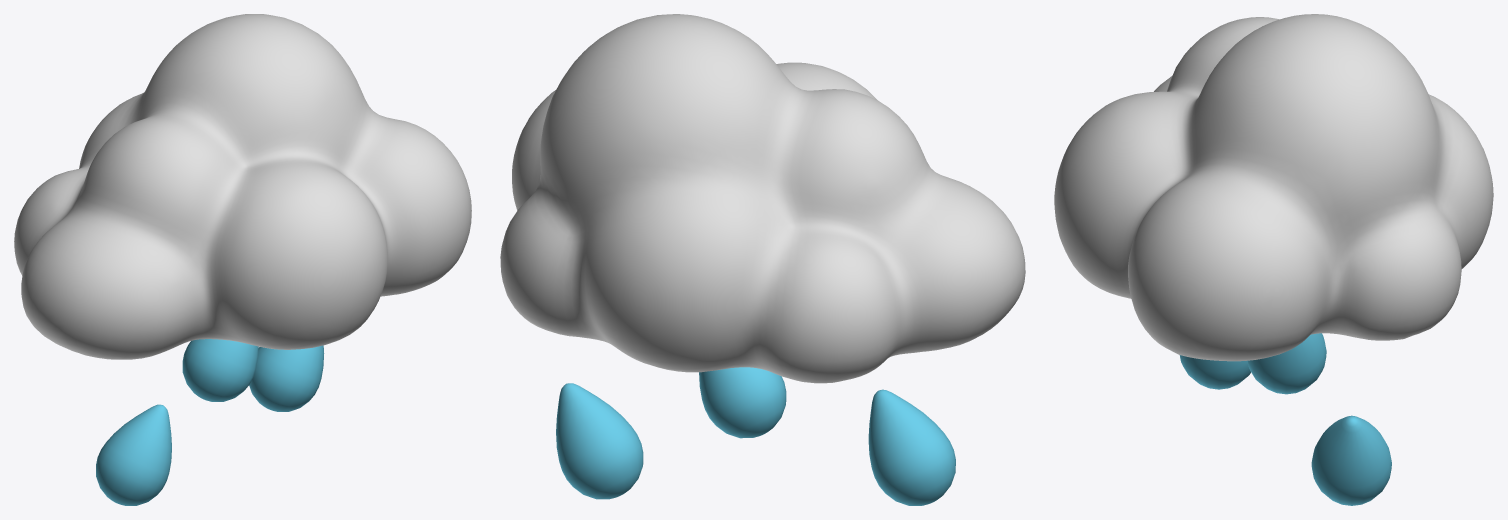
The model's file is rain.gltf.
3 views of the same model, side by side, from view 1: azimuth 30°, elevation 25°; view 2: azimuth 150°, elevation 25°; view 3: azimuth 270°, elevation 25° (orthographic). The views are drawn at different scales.
Parts seen in each view (by area): view 1: rain.1; view 2: rain.1; view 3: rain.1.
Part boxes in pixels (left/top/right/bottom): rain.1: left=14, top=14, right=471, bottom=505; rain.1: left=500, top=14, right=1025, bottom=505; rain.1: left=1054, top=14, right=1493, bottom=505.
Size of the model in its own units: 16.47 by 15.15 by 13.36.
